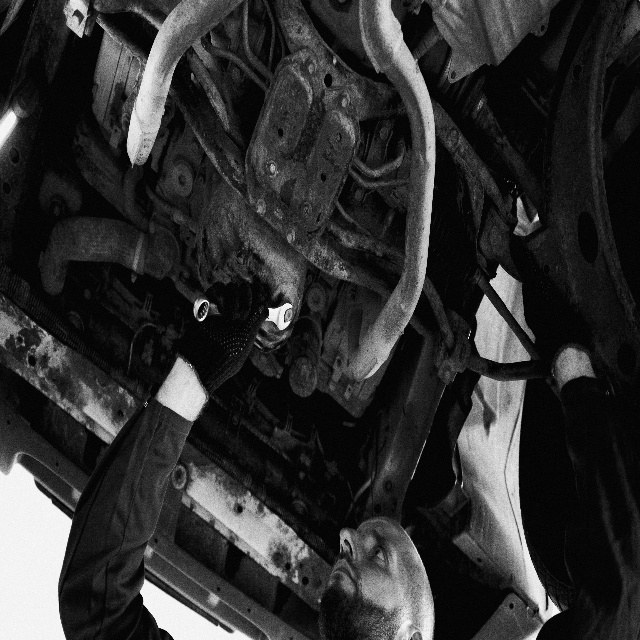Guantes: (175, 280, 269, 401), (520, 276, 592, 373)
